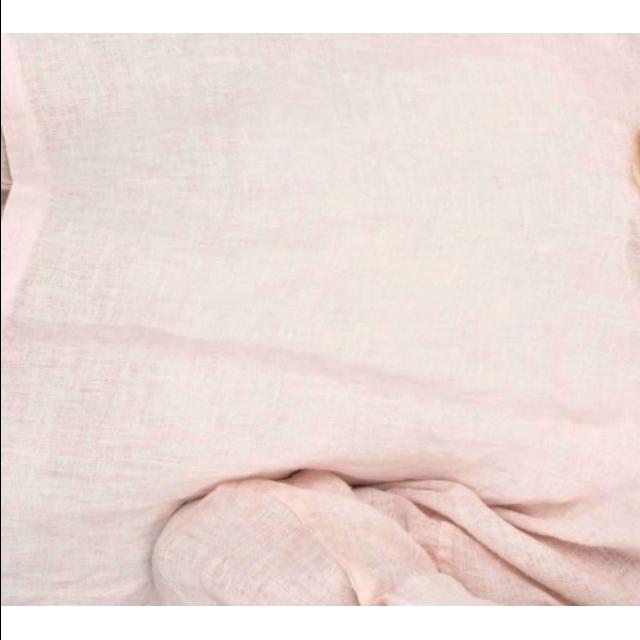linen: (1, 34, 462, 606)
